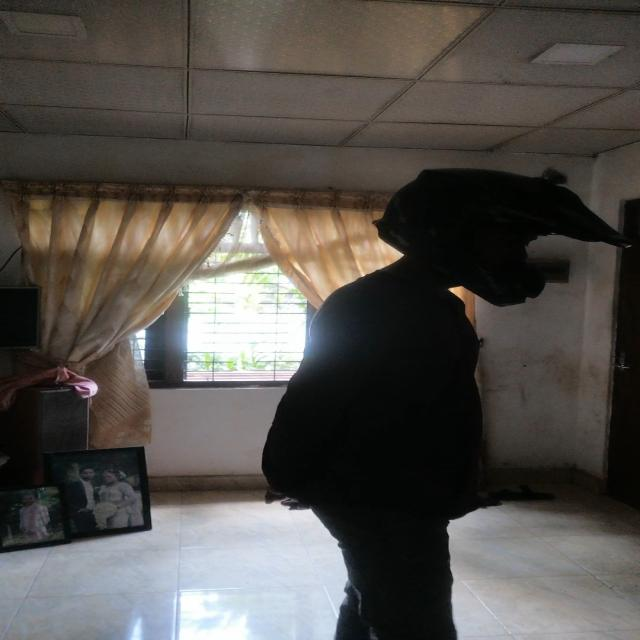Helmet_Wearer: (364, 153, 626, 304)
Person: (277, 152, 602, 640)
